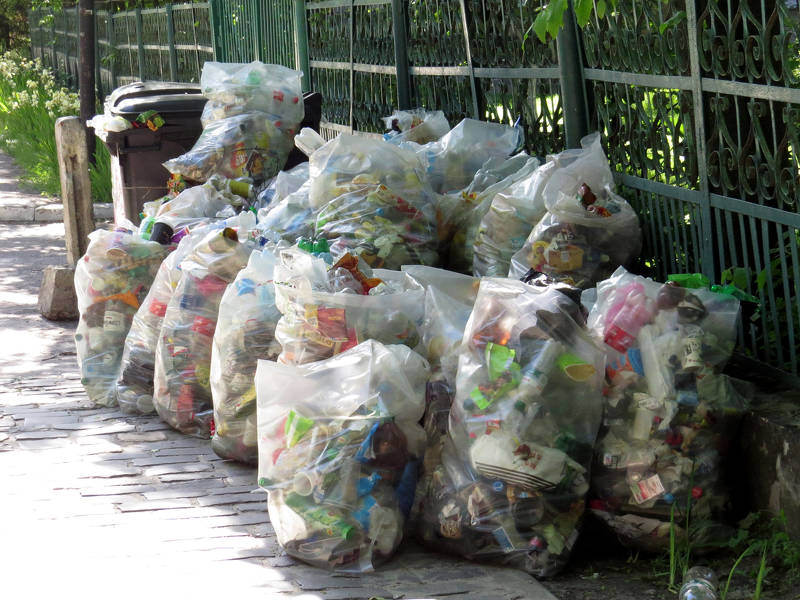plastic_bagwdw: (560, 213, 791, 591), (239, 320, 475, 597), (433, 267, 629, 600), (217, 200, 388, 535), (365, 215, 518, 562), (456, 102, 678, 335), (125, 138, 245, 546), (279, 84, 475, 332), (163, 41, 400, 224), (261, 242, 426, 504), (146, 113, 355, 281), (164, 160, 261, 518), (43, 189, 147, 458), (374, 72, 469, 201)
